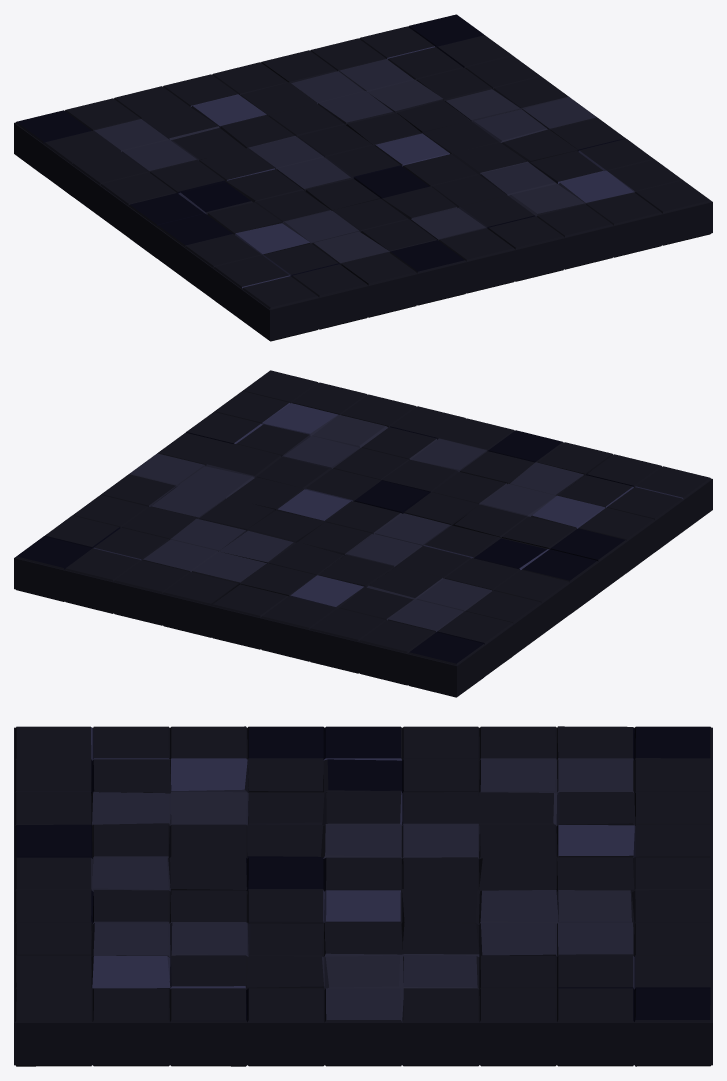
File: floor 3.fbx
The picture shows the model from 3 angles, top to bottom: view 1: azimuth 30°, elevation 25°; view 2: azimuth 150°, elevation 25°; view 3: azimuth 270°, elevation 25°; orthographic projection. The views are drawn at different scales.
Visible parts, largest first — view 1: floor3; view 2: floor3; view 3: floor3.
Boxes of the visible parts, box(x1,y1,x2,y2) form: floor3: box(14, 14, 712, 341); floor3: box(14, 370, 712, 697); floor3: box(14, 726, 712, 1066).
Bounding box in the file's own units: 600 × 45.52 × 600.
